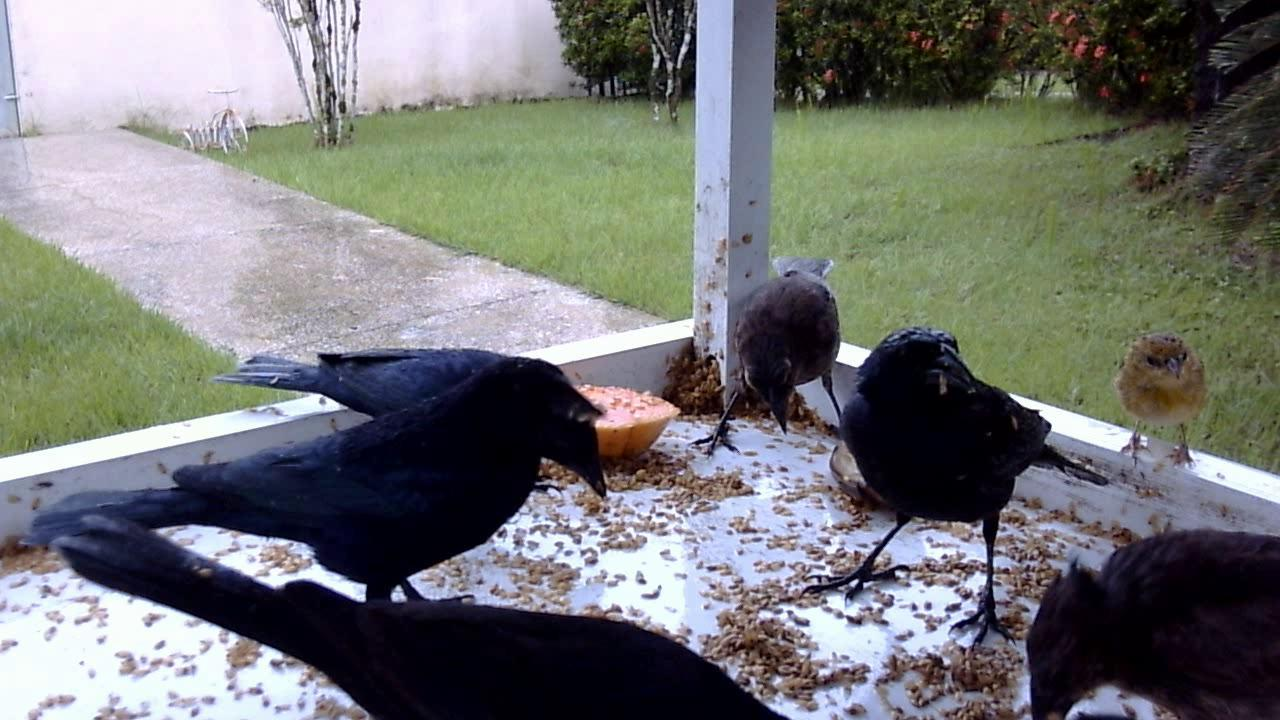canario_do_amazonas: (1105, 326, 1213, 478)
chupim: (34, 360, 624, 612), (67, 530, 822, 715), (778, 318, 1127, 653), (1021, 507, 1268, 716), (193, 327, 580, 434), (696, 247, 848, 464)
